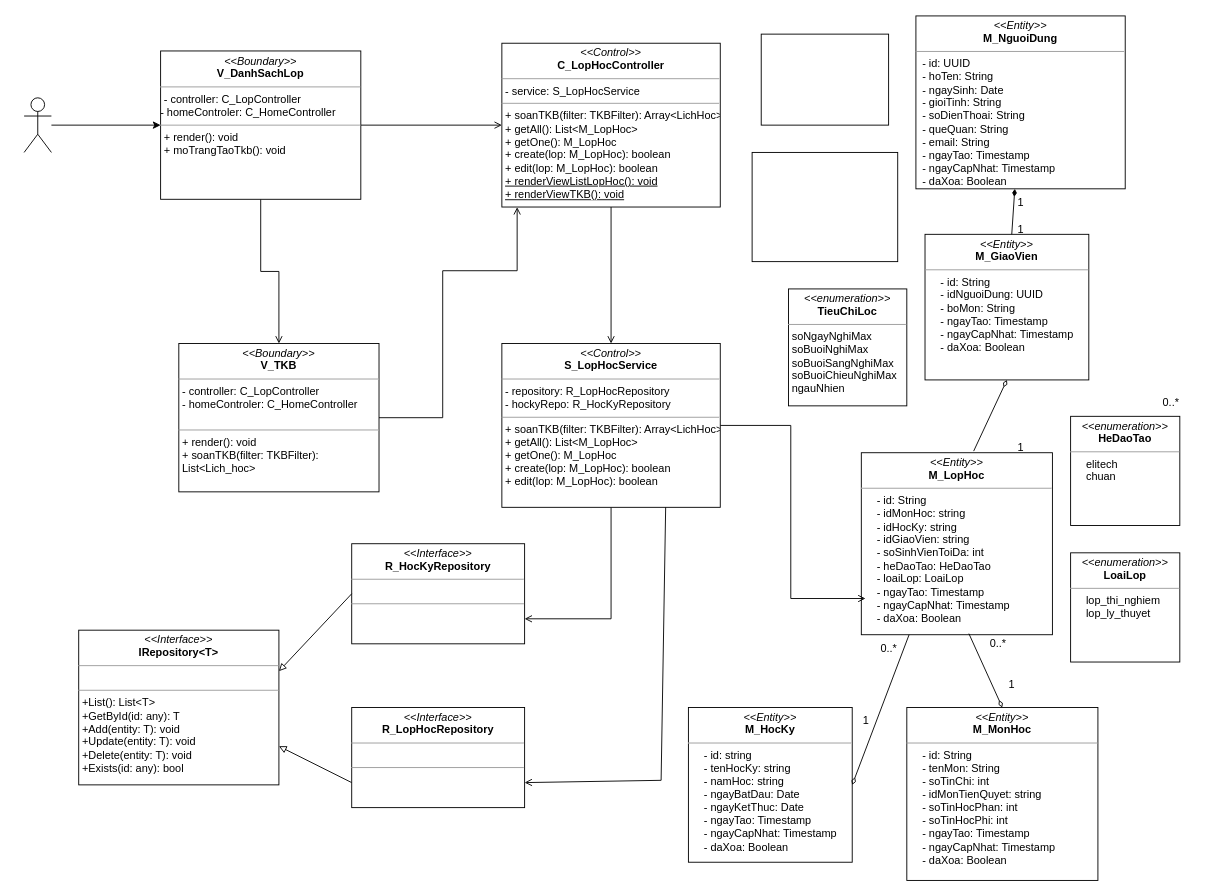
Image size: 1205x896. Some labels were removed from this diagram. The centre of each missing label's shape, as x and y in pixels:
"Lich_hoc - monHoc: M_MonHoc - batDau: Date - ketThuc: Date" goes at point (824, 79).
"Sinh viên" goes at point (37, 124).
"TKBFilter + maMon_list: Array<string> + thoiGianNghi: Date + sortBy: TieuChiLoc" goes at point (824, 207).
